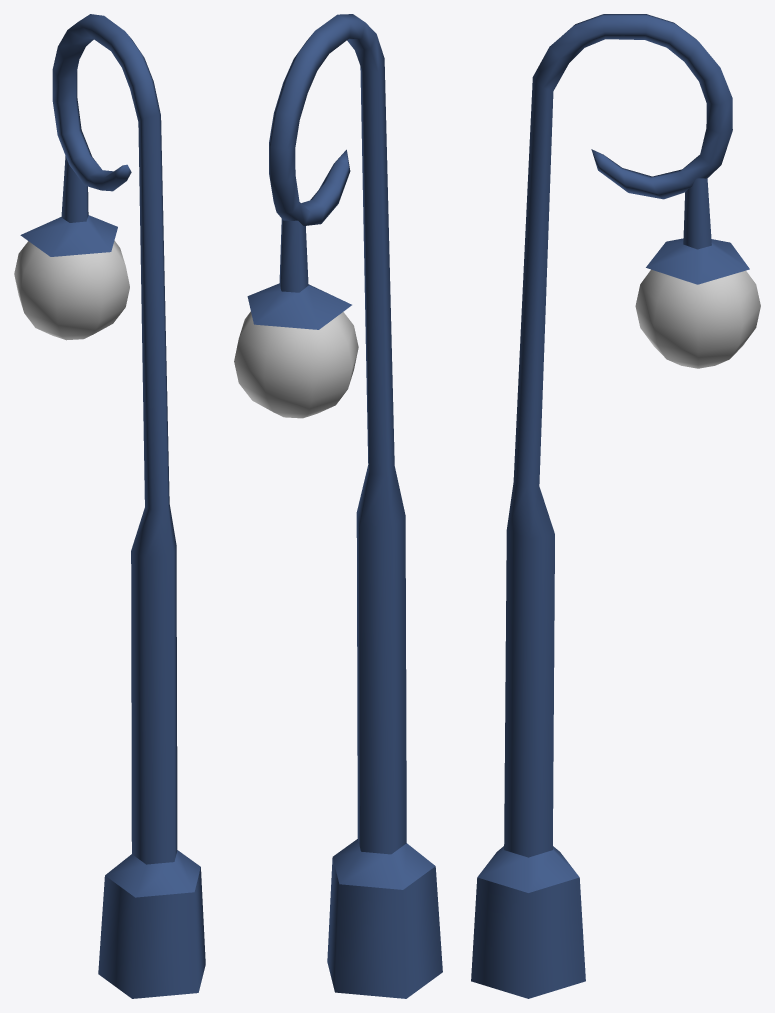
Rendered from Streetlamp.fbx.
The picture shows the model from 3 angles, left to right: view 1: azimuth 30°, elevation 25°; view 2: azimuth 150°, elevation 25°; view 3: azimuth 270°, elevation 25°; orthographic projection. The views are drawn at different scales.
Visible parts, largest first — view 1: polySurface87, Lamp; view 2: polySurface87, Lamp; view 3: polySurface87, Lamp.
Part boxes in pixels (<box>): polySurface87: <box>20,14,205,998</box>; Lamp: <box>14,240,129,340</box>; polySurface87: <box>247,14,442,998</box>; Lamp: <box>234,311,358,418</box>; polySurface87: <box>471,14,749,998</box>; Lamp: <box>635,269,760,368</box>.
Size of the model in its own units: 2.18 by 18.34 by 5.02.
